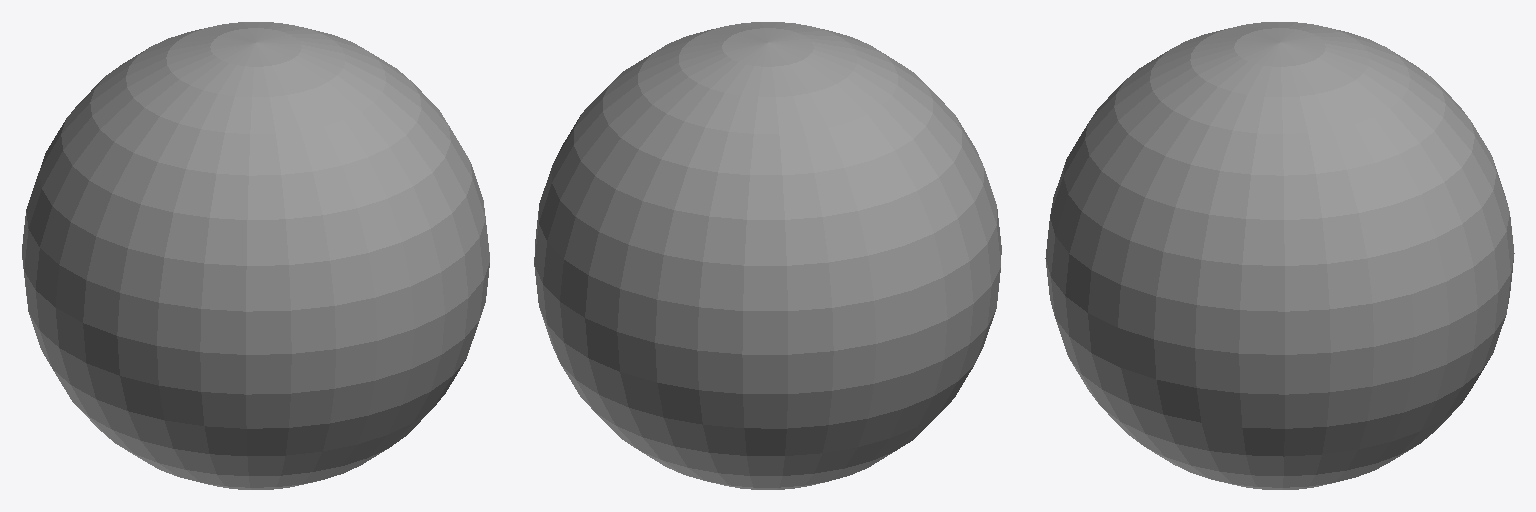
Rendered from sun2.obj.
The picture shows the model from 3 angles: view 1: azimuth 30°, elevation 25°; view 2: azimuth 150°, elevation 25°; view 3: azimuth 270°, elevation 25°; orthographic projection.
Visible parts, largest first — view 1: Sphere; view 2: Sphere; view 3: Sphere.
Part boxes in pixels (bbox=[...]): Sphere: bbox=[22, 22, 489, 489]; Sphere: bbox=[534, 22, 1001, 489]; Sphere: bbox=[1045, 22, 1514, 489].
Bounding box in the file's own units: 6.02 × 6.04 × 6.02.